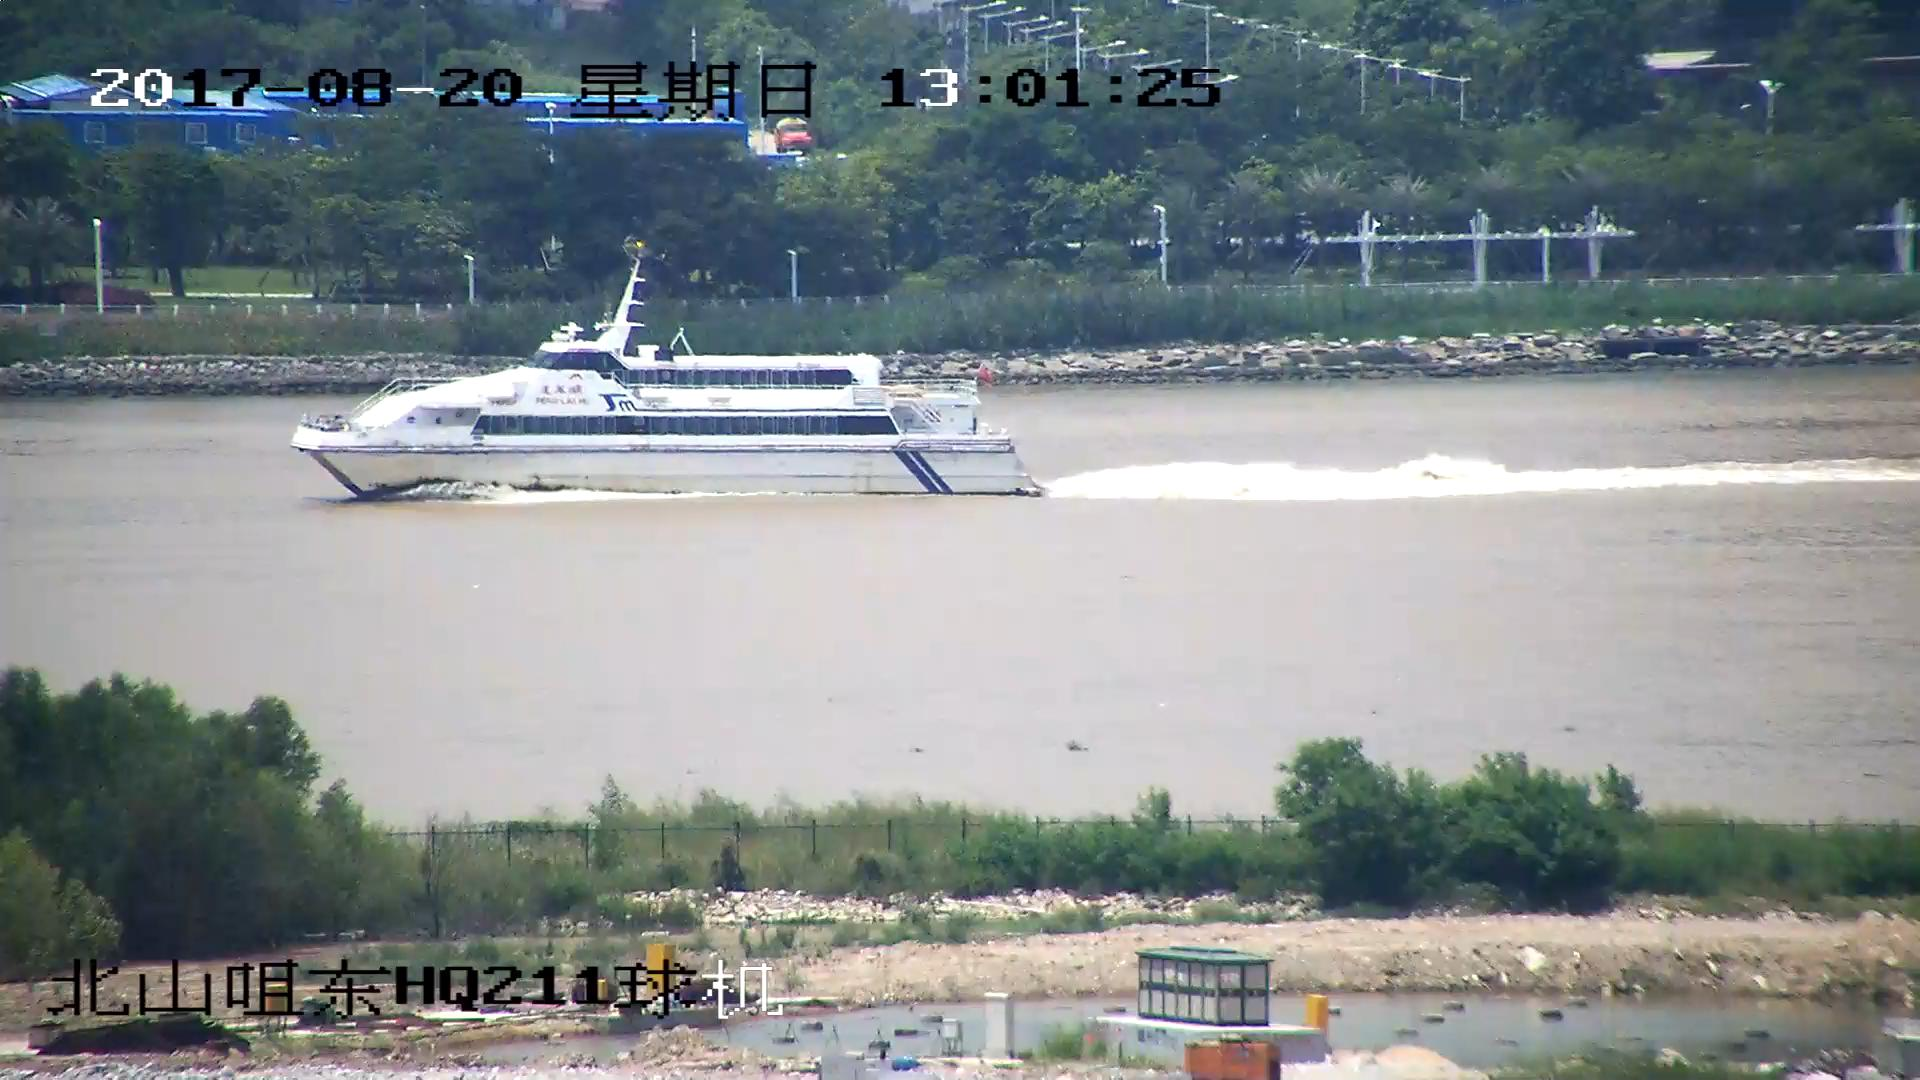passenger ship: (294, 263, 1033, 499)
